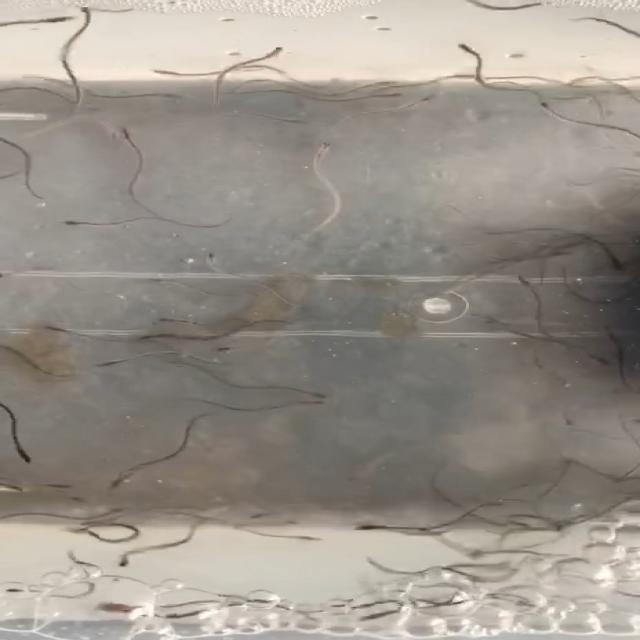active_glass_eel: (29, 12, 82, 29), (74, 1, 105, 27), (454, 40, 487, 63), (53, 215, 105, 229), (198, 250, 230, 272), (341, 518, 385, 534), (103, 473, 135, 494), (31, 322, 75, 337), (287, 532, 327, 548), (140, 276, 182, 290), (365, 74, 400, 90), (314, 140, 340, 161), (534, 97, 561, 117), (106, 554, 136, 572), (60, 490, 91, 507), (16, 443, 37, 468), (118, 122, 145, 141), (301, 386, 333, 402), (555, 412, 583, 430), (210, 341, 241, 357), (88, 359, 126, 372), (288, 394, 326, 407), (609, 254, 636, 272), (515, 271, 537, 293), (256, 45, 288, 60), (79, 530, 118, 542), (533, 249, 575, 260), (35, 479, 76, 490), (142, 67, 190, 76), (134, 330, 158, 346), (592, 352, 614, 369), (155, 91, 186, 102), (376, 92, 404, 103), (150, 314, 178, 325), (416, 90, 434, 107)
